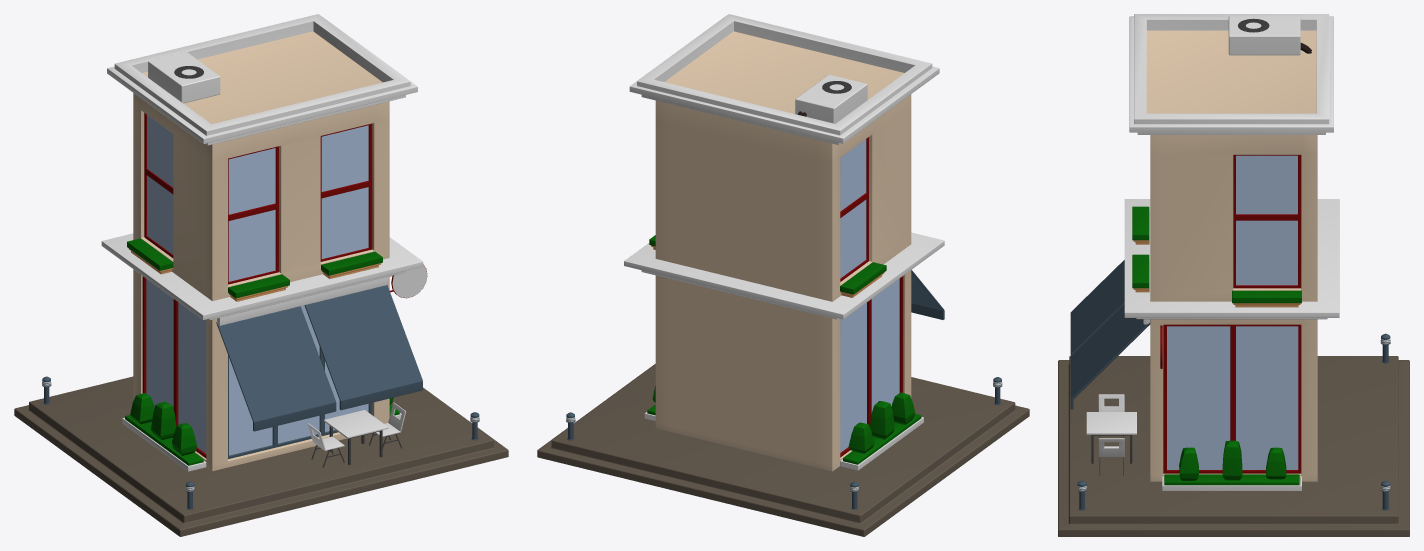
File: coffee_house.glb
The picture shows the model from 3 angles, left to right: view 1: azimuth 30°, elevation 25°; view 2: azimuth 150°, elevation 25°; view 3: azimuth 270°, elevation 25°; orthographic projection. The views are drawn at different scales.
Visible parts, largest first — view 1: coffe house; view 2: coffe house; view 3: coffe house.
Boxes of the visible parts, x1=… form: coffe house: x1=14, y1=14, x2=508, y2=536; coffe house: x1=537, y1=14, x2=1029, y2=536; coffe house: x1=1058, y1=14, x2=1409, y2=536.
Size of the model in its own units: 12.55 by 13.6 by 11.
